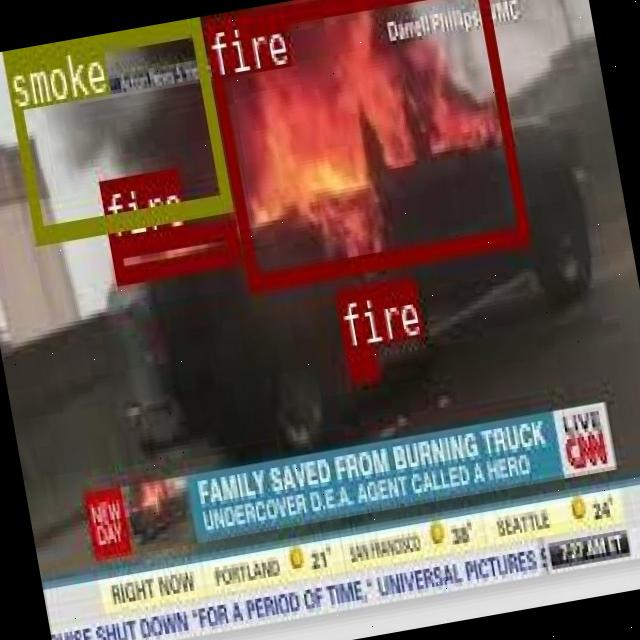fire: (200, 0, 528, 290), (109, 217, 238, 279), (344, 345, 376, 379)
smoke: (2, 17, 228, 242)
